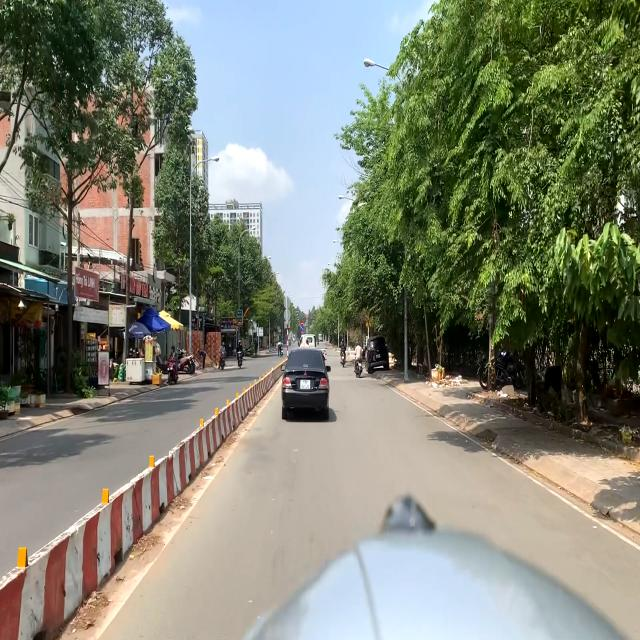P.102: (300, 321, 304, 326)
R.302a: (300, 326, 304, 331)
